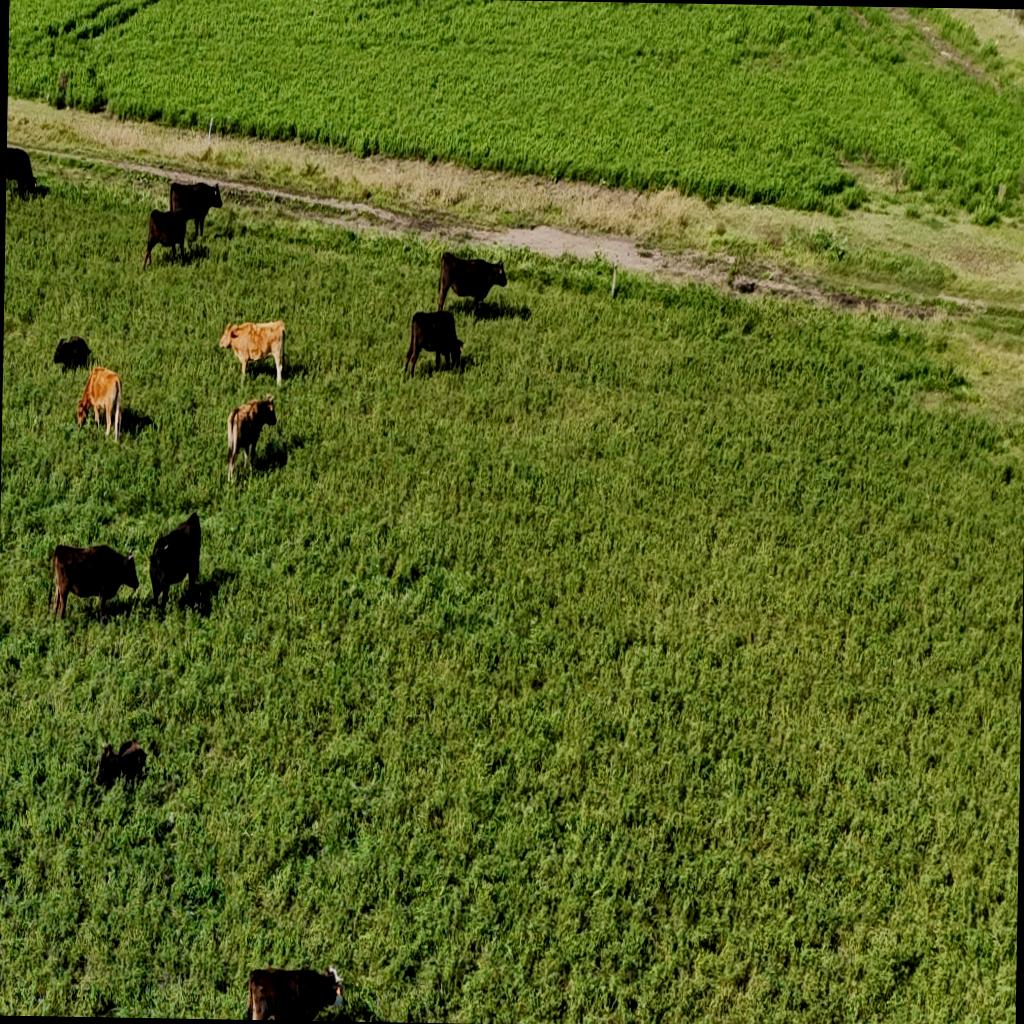cow: (48, 540, 138, 626), (247, 960, 344, 1020), (148, 512, 202, 614), (218, 316, 287, 388), (436, 252, 508, 320), (227, 390, 279, 484), (404, 308, 463, 378), (74, 365, 123, 445), (170, 180, 224, 240), (92, 738, 147, 795), (142, 208, 186, 272), (6, 146, 39, 202), (52, 336, 90, 372), (26, 182, 49, 200)
